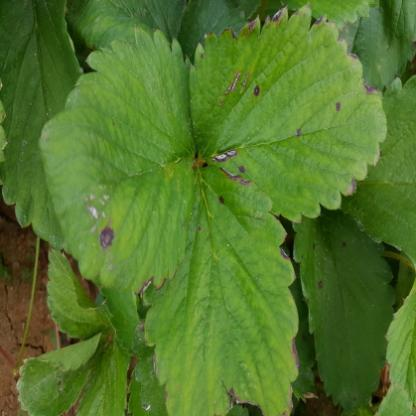Strawberry_Leaf_Spot: (188, 1, 388, 224), (38, 25, 196, 295), (142, 163, 300, 415), (291, 204, 396, 410)
